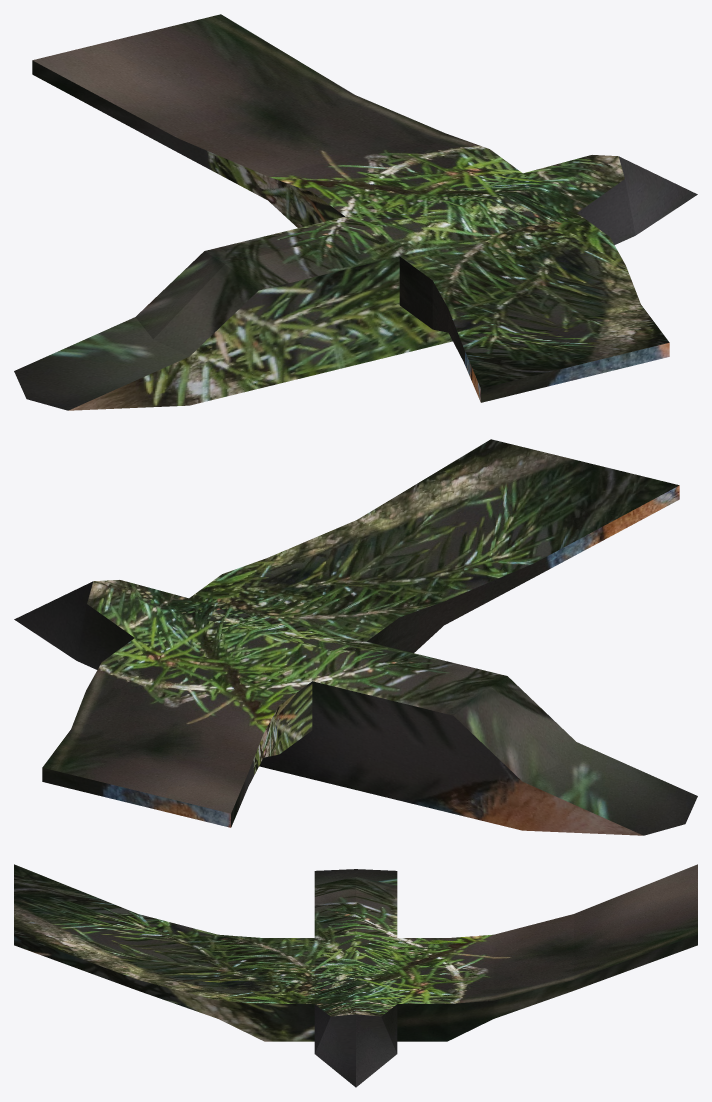
Rendered from finch.fbx.
3 renders of one model, top to bottom at view 1: azimuth 30°, elevation 25°; view 2: azimuth 150°, elevation 25°; view 3: azimuth 270°, elevation 25°, orthographic. The views are drawn at different scales.
Parts seen in each view (by area): view 1: Fonchy; view 2: Fonchy; view 3: Fonchy.
Boxes of the visible parts, box(x1,y1,x2,y2) form: Fonchy: box(14, 14, 697, 410); Fonchy: box(14, 439, 697, 835); Fonchy: box(14, 864, 697, 1087).
Size of the model in its own units: 667 by 140 by 772.
